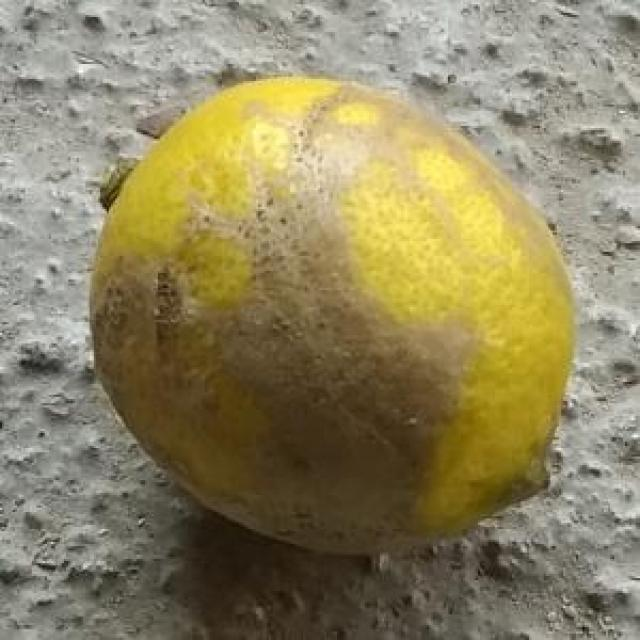lemon: (90, 71, 580, 554)
